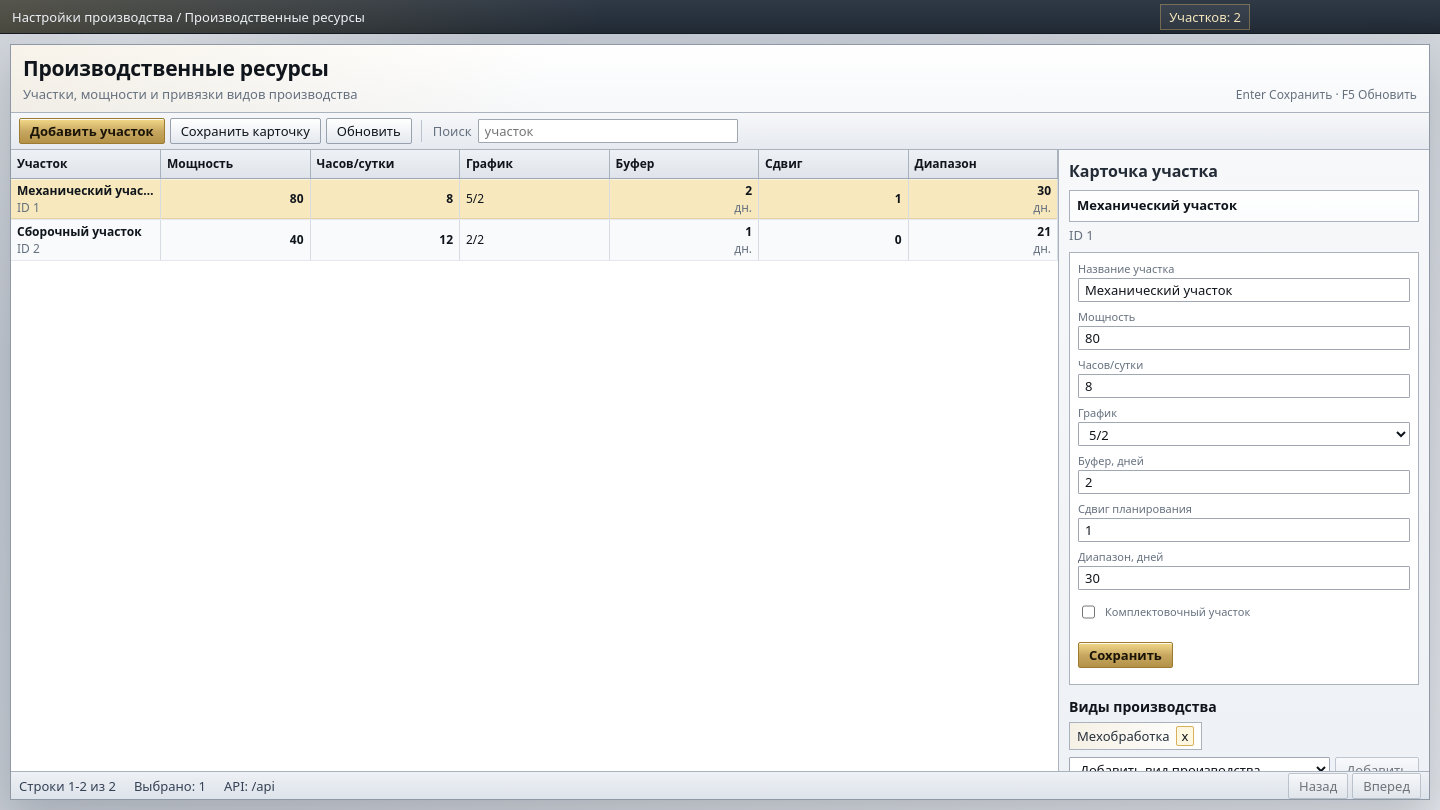
Test: ResourcesPage characterization › adds and removes production-kind bindings and refreshes detail
Select "Покраска" in the dropdown named "Добавить вид производства" at [1200, 769], box [1069,757,1330,781]
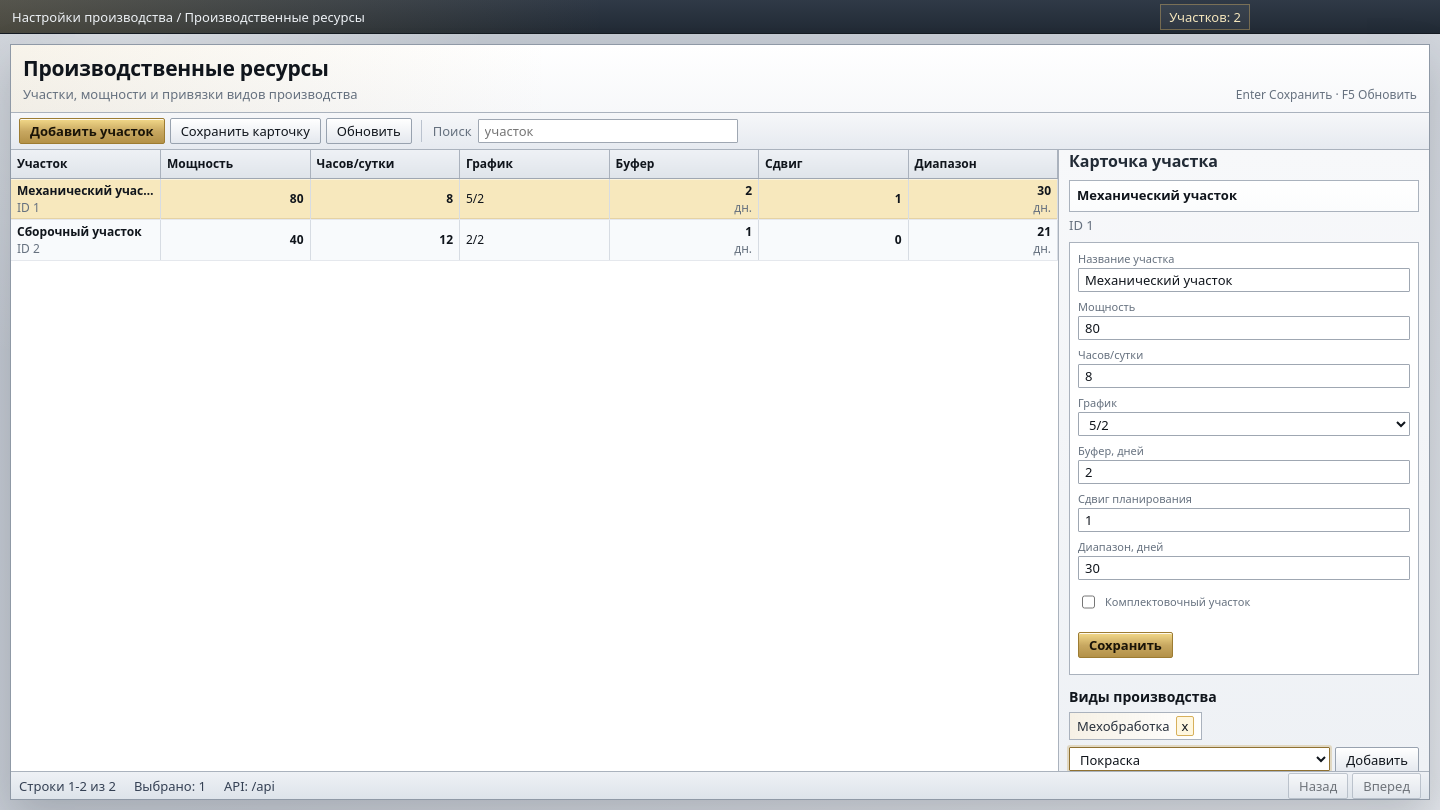
Click the button "Добавить" at [1377, 760], box [1335,747,1419,773]
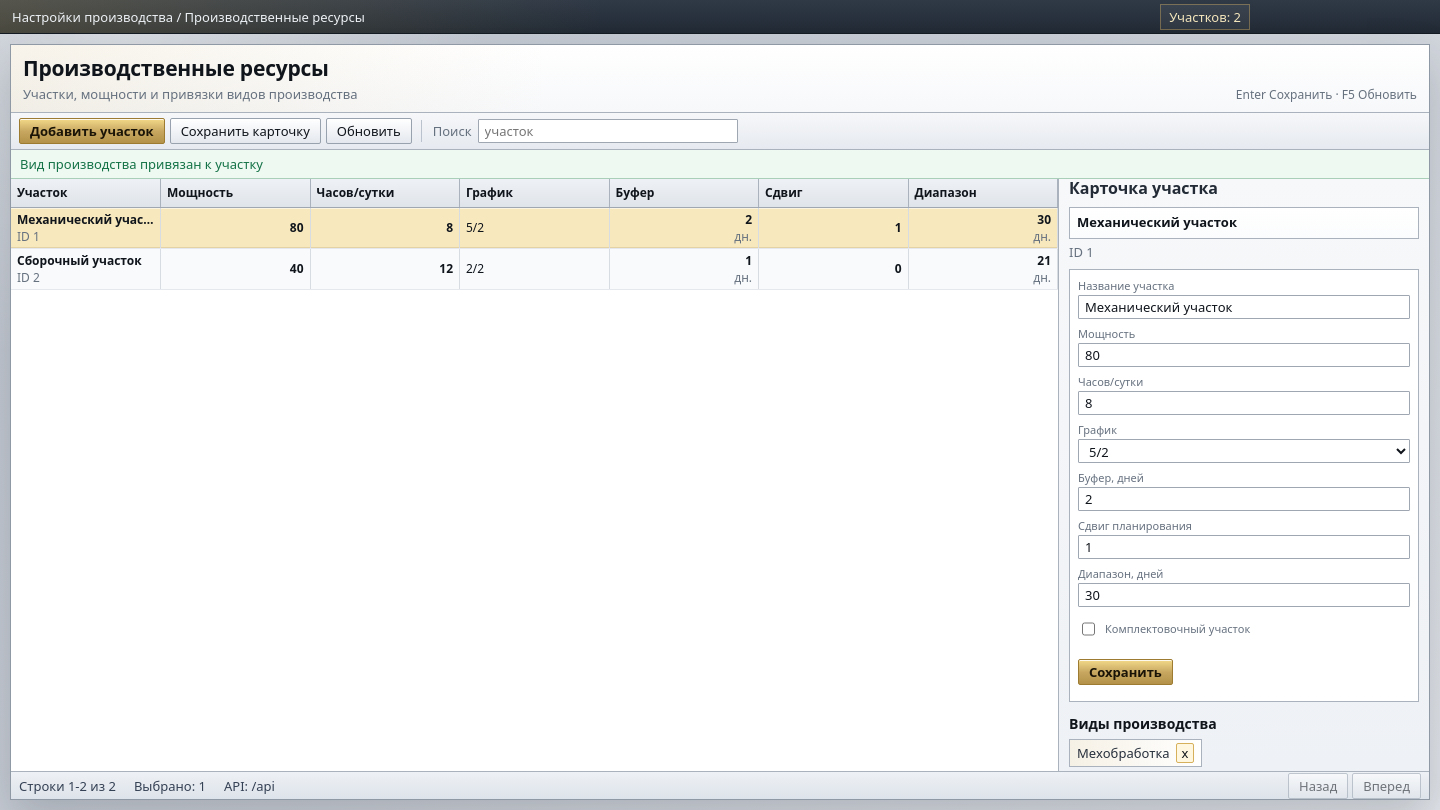
Check: the text "Вид производства привязан к участку" is shown, box [11,150,1429,179]
Click the button named "Удалить вид производства Мехобработка" at [1185, 753], box [1176,743,1194,763]
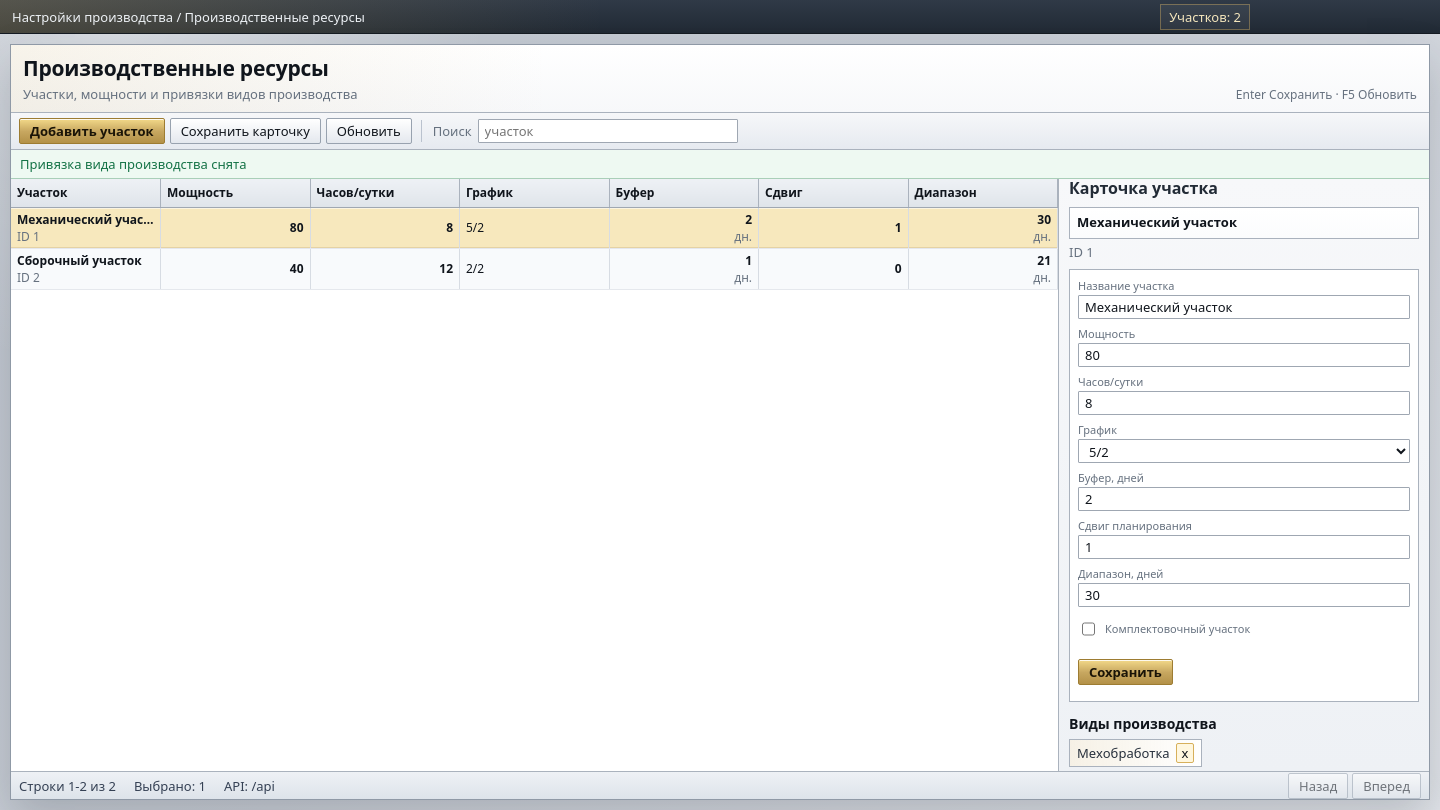
Check: the text "Привязка вида производства снята" is shown, box [11,150,1429,179]
